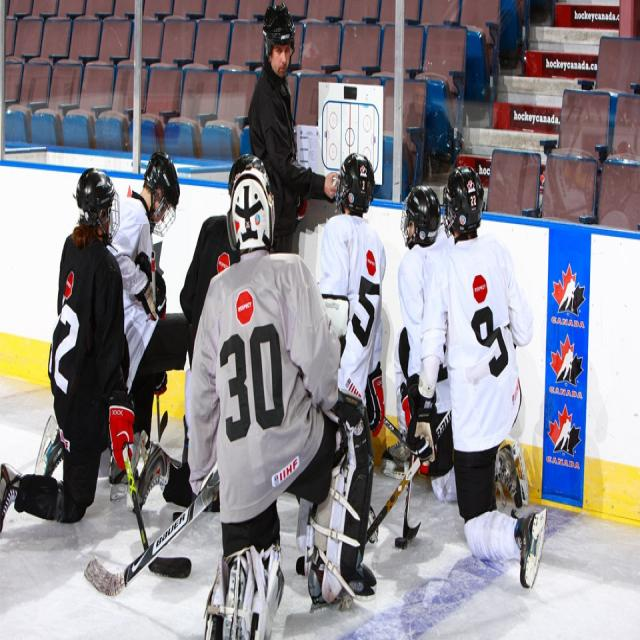body: (187, 167, 350, 640), (406, 159, 549, 590), (33, 148, 199, 511), (0, 167, 155, 539), (132, 153, 271, 513), (380, 184, 530, 507), (314, 152, 386, 592), (246, 2, 339, 258)
